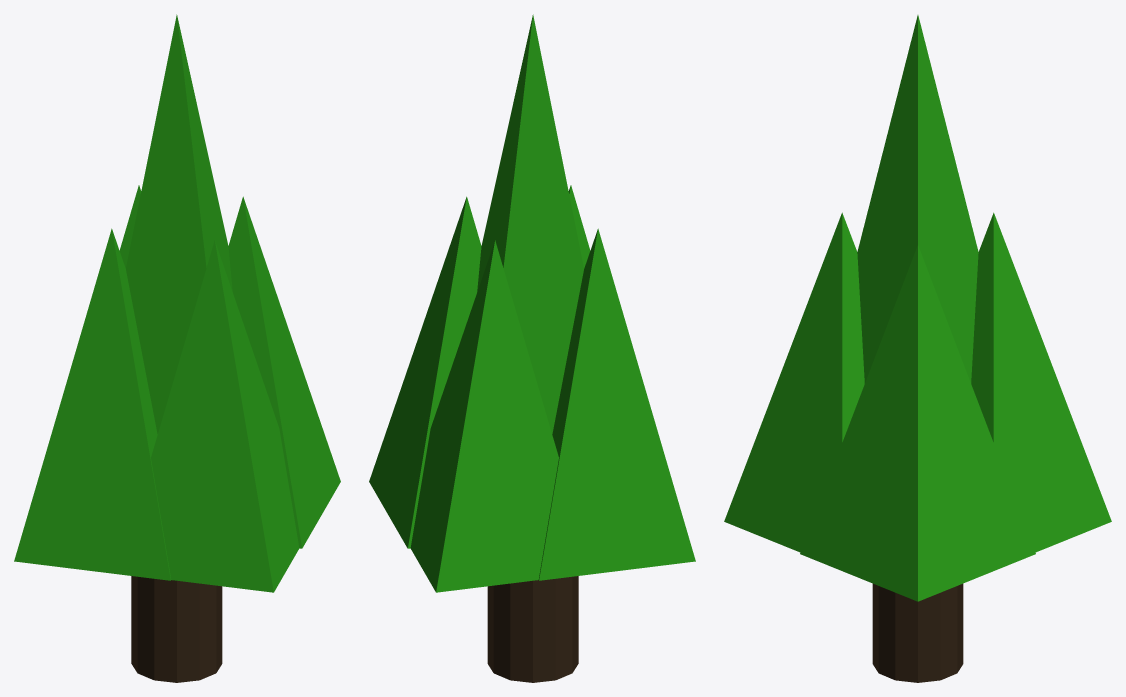
The model's file is largetree.dae.
3 renders of one model, left to right at view 1: azimuth 30°, elevation 25°; view 2: azimuth 150°, elevation 25°; view 3: azimuth 270°, elevation 25°, orthographic.
Visible parts, largest first — view 1: Cone.003, Cone.005, Cone.002, Cone.004, Cylinder.003, Cone.006; view 2: Cone.006, Cone.005, Cone.002, Cone.004, Cylinder.003, Cone.003; view 3: Cone.004, Cone.002, Cone.006, Cone.003, Cylinder.003.
Boxes of the visible parts, x1,y1,x2,y2 form: Cone.003: [151, 240, 299, 592]; Cone.005: [14, 228, 171, 580]; Cone.002: [126, 14, 232, 433]; Cone.004: [228, 196, 340, 548]; Cylinder.003: [131, 576, 222, 682]; Cone.006: [119, 185, 141, 268]; Cone.006: [410, 240, 558, 592]; Cone.005: [538, 228, 695, 580]; Cone.002: [477, 14, 583, 433]; Cone.004: [369, 196, 481, 548]; Cylinder.003: [487, 576, 578, 682]; Cone.003: [568, 185, 590, 268]; Cone.004: [800, 245, 1035, 601]; Cone.002: [857, 15, 978, 383]; Cone.006: [971, 212, 1111, 552]; Cone.003: [724, 212, 864, 552]; Cylinder.003: [872, 583, 963, 682].
Bounding box in the file's own units: 24.9 × 25.58 × 47.29.
